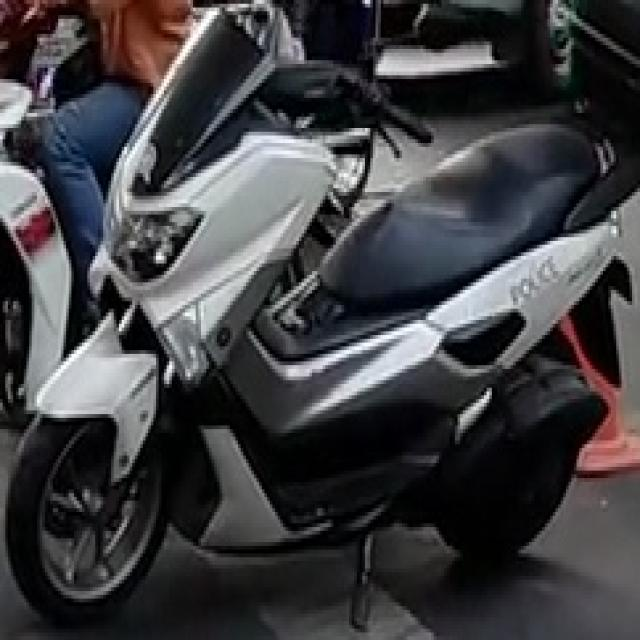door: (0, 0, 637, 625)
tyre: (3, 407, 169, 621)
